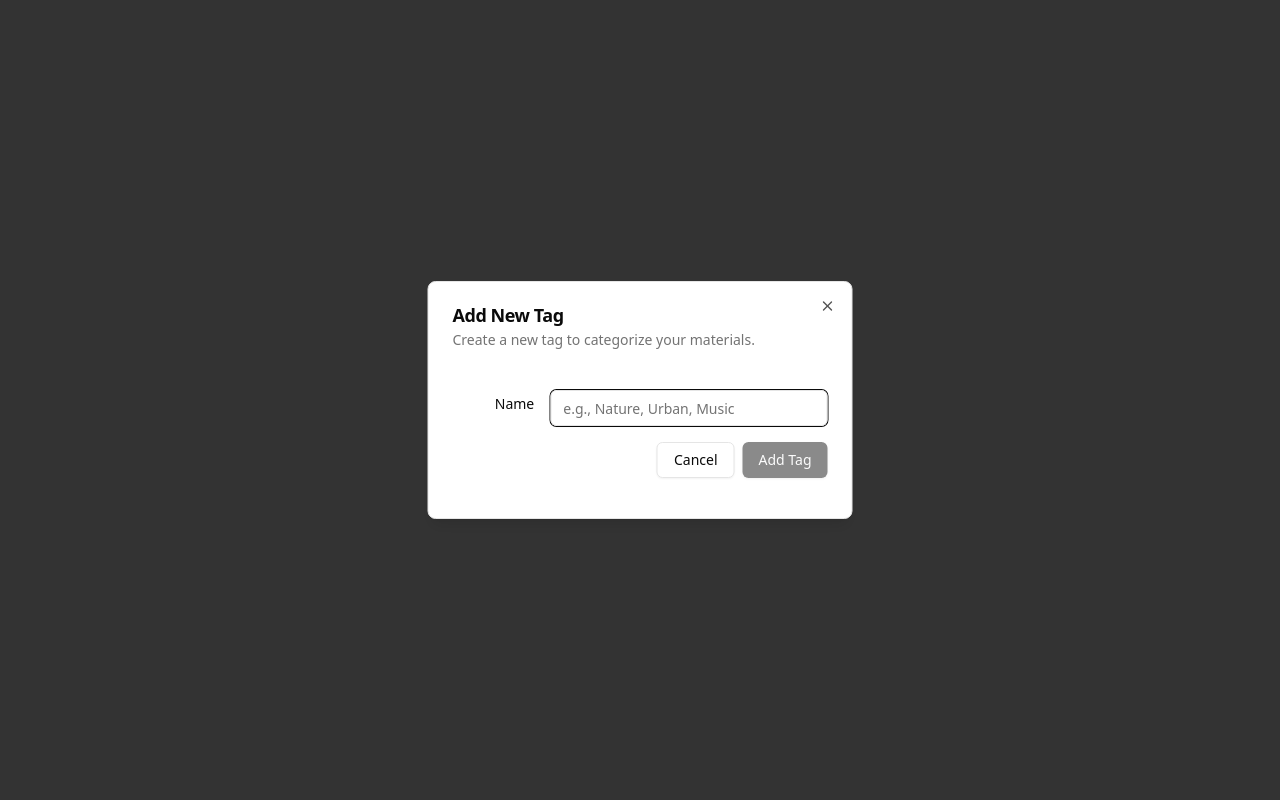
TagFormModal › shows API error message if submission fails (e.g., name conflict)
In the field labelled "Name": x=689, y=408 left=550, top=390, right=828, bottom=426, type "Existing Tag"
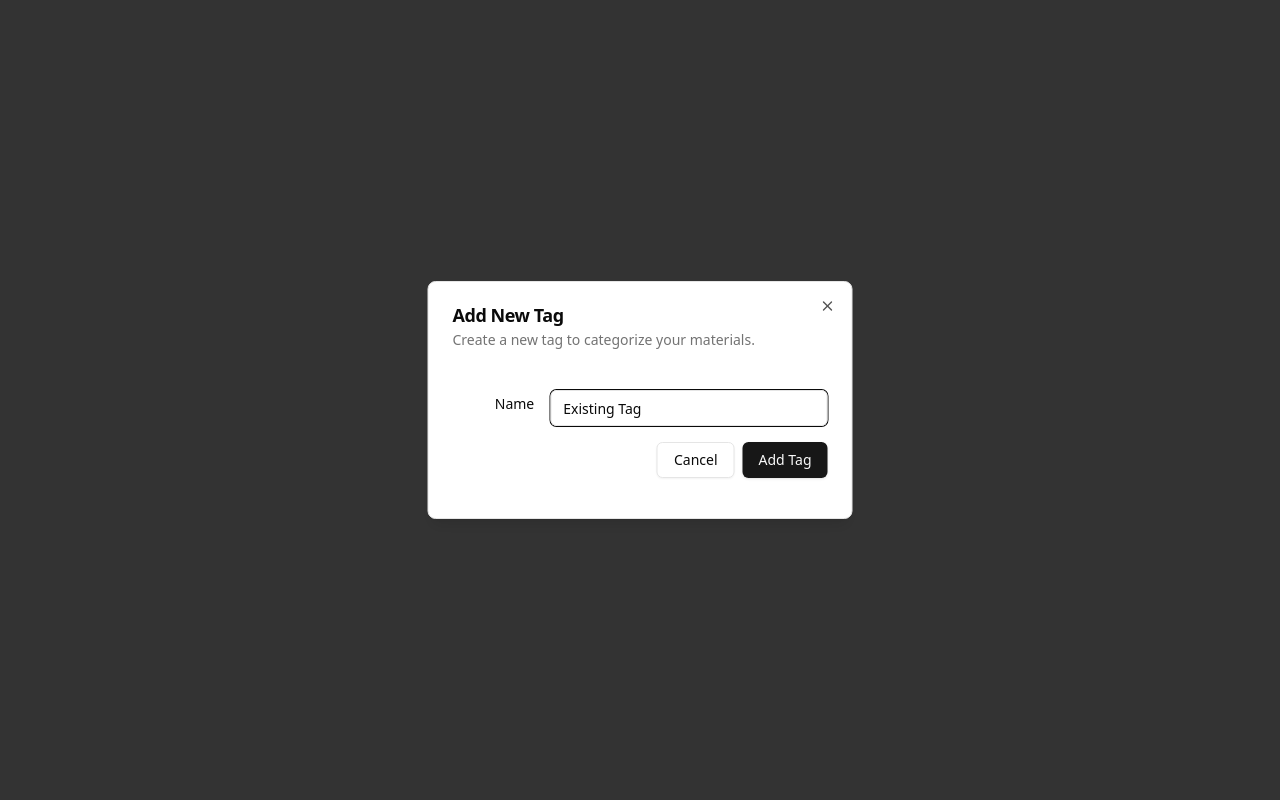
Click the button "Add Tag": x=785, y=460 left=743, top=442, right=828, bottom=478
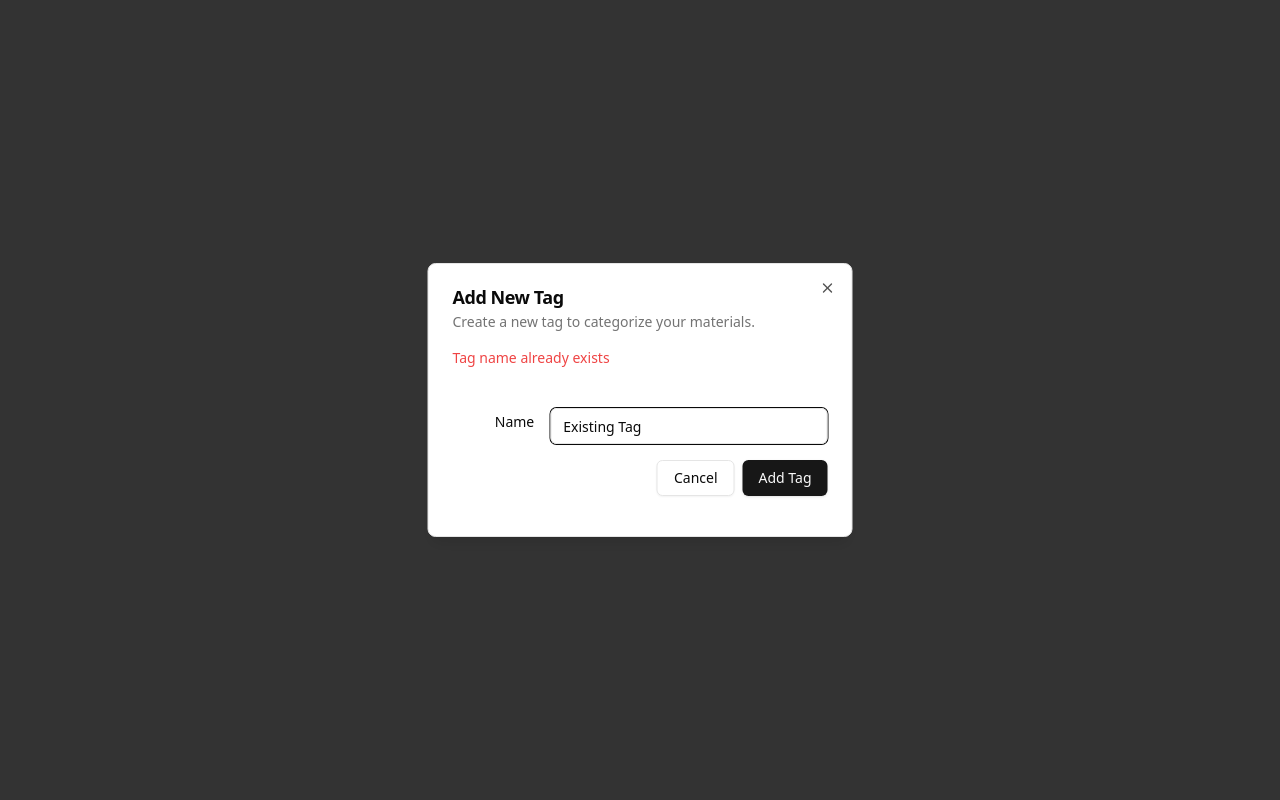
Result: the text "Tag name already exists" is shown at left=452, top=348, right=610, bottom=367
